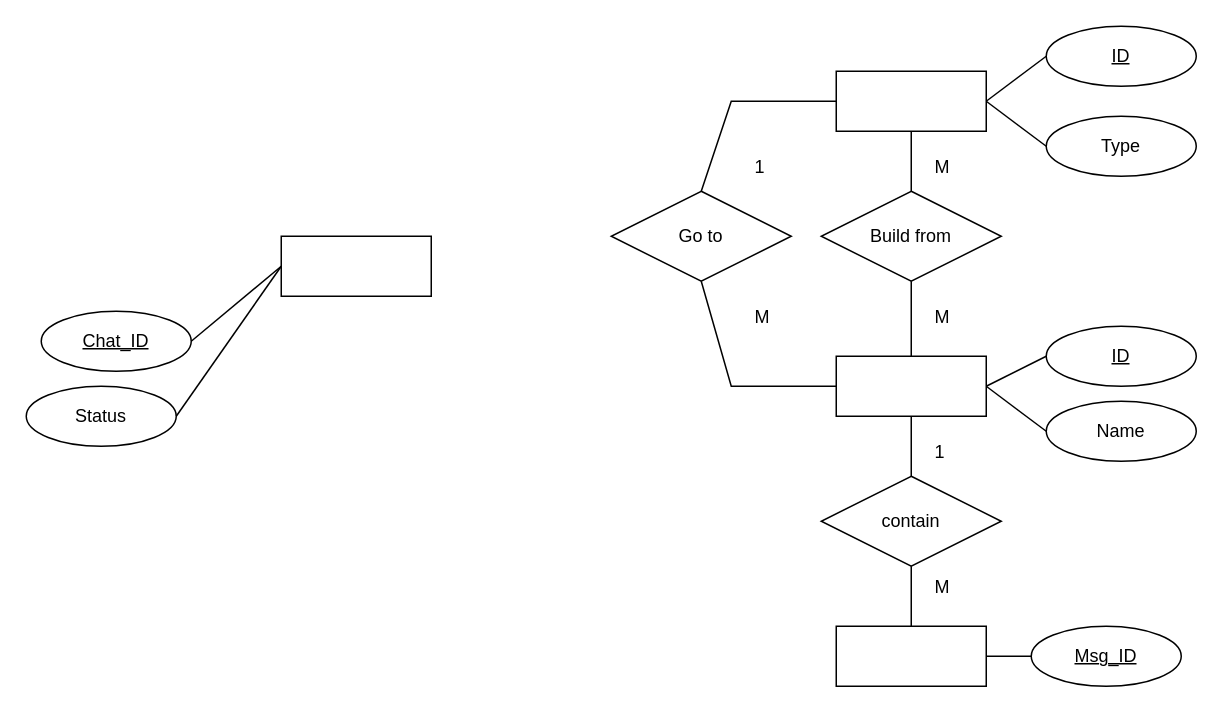
This 1223x713 diagram has some shape labels left out. Here are the shapes that lost their labels. From the top down, the centre of each, then its label:
the point at 910,100: menu
the point at 355,265: User
the point at 910,385: Button
the point at 910,655: M aterial
